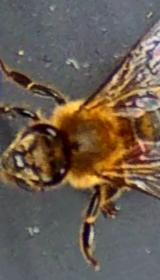varroa_mite: (124, 130, 152, 164)
